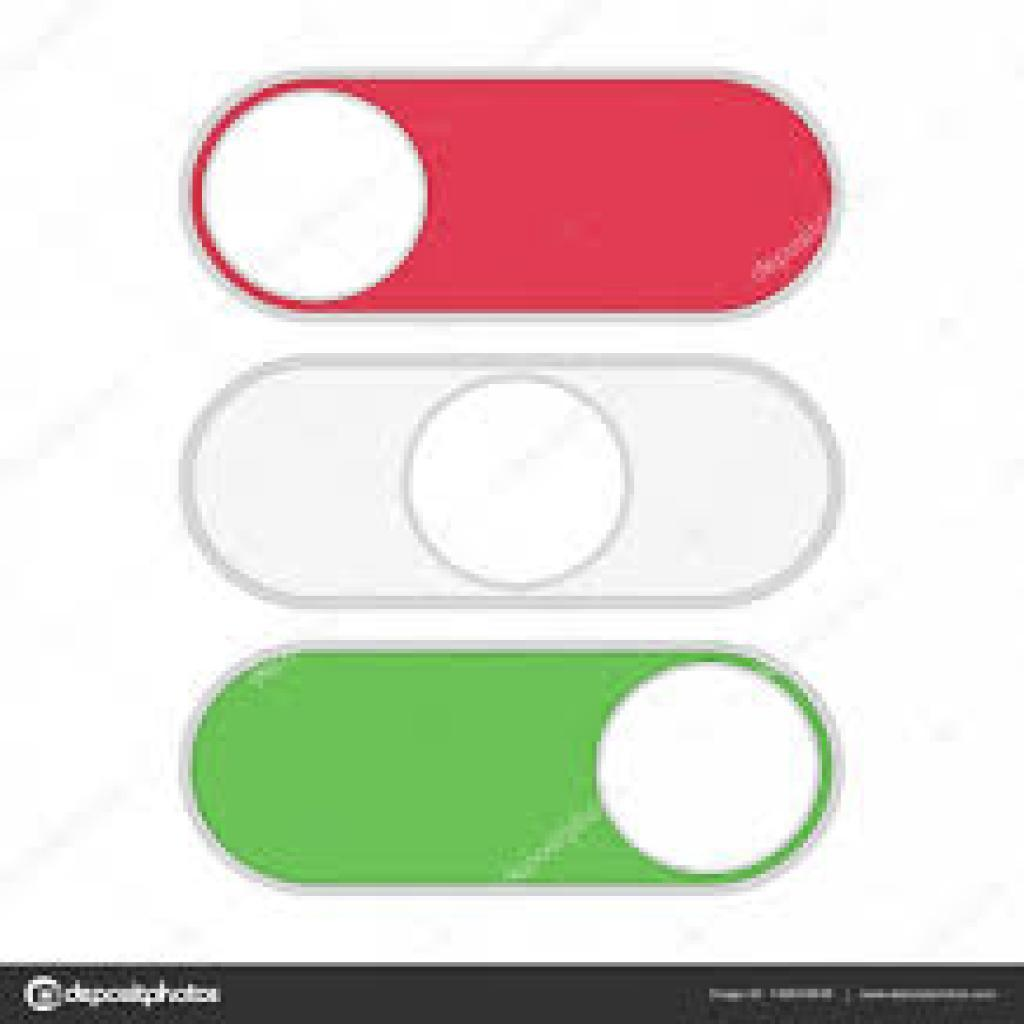dropdown: (184, 355, 845, 618), (185, 645, 845, 888), (182, 77, 843, 315)
